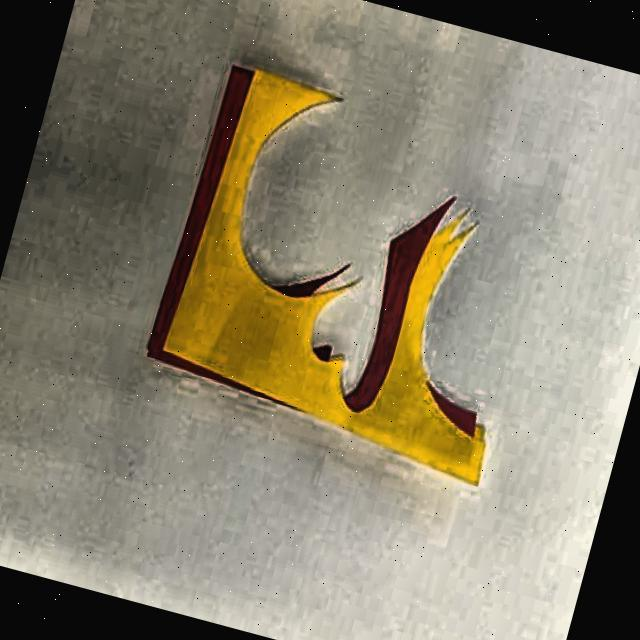paper: (128, 58, 570, 488)
